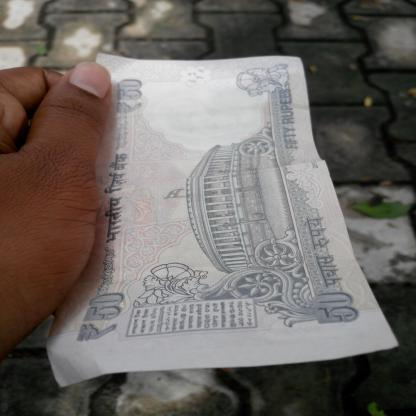Old50Back: (48, 52, 400, 386)
